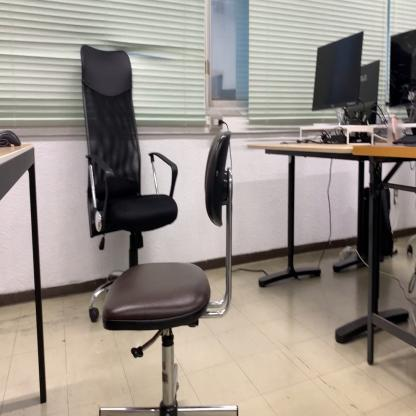chair: (97, 129, 240, 416), (78, 43, 180, 326)
